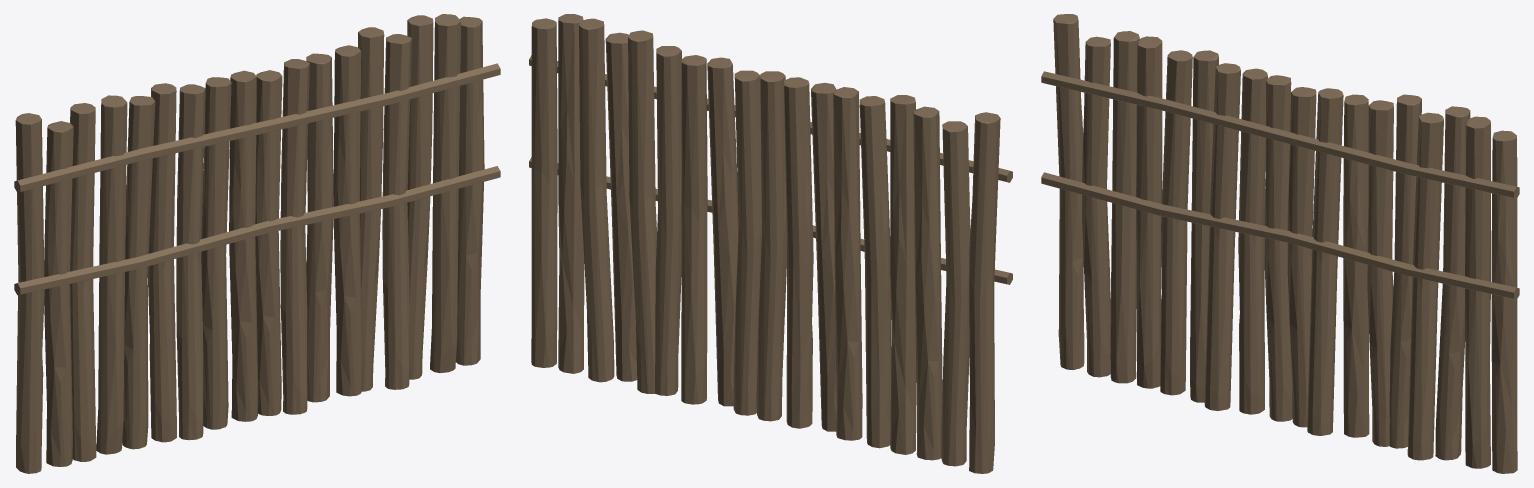
Rendered from fence_c_2m_02.FBX.
The picture shows the model from 3 angles, left to right: view 1: azimuth 30°, elevation 25°; view 2: azimuth 150°, elevation 25°; view 3: azimuth 330°, elevation 25°; orthographic projection.
Visible parts, largest first — view 1: fence_c_2m_02; view 2: fence_c_2m_02; view 3: fence_c_2m_02.
Part boxes in pixels (left/top/right/bottom): fence_c_2m_02: left=14, top=14, right=500, bottom=473; fence_c_2m_02: left=529, top=14, right=1012, bottom=473; fence_c_2m_02: left=1041, top=14, right=1519, bottom=473.
Bounding box in the file's own units: 2.09 × 1.47 × 0.1623.
